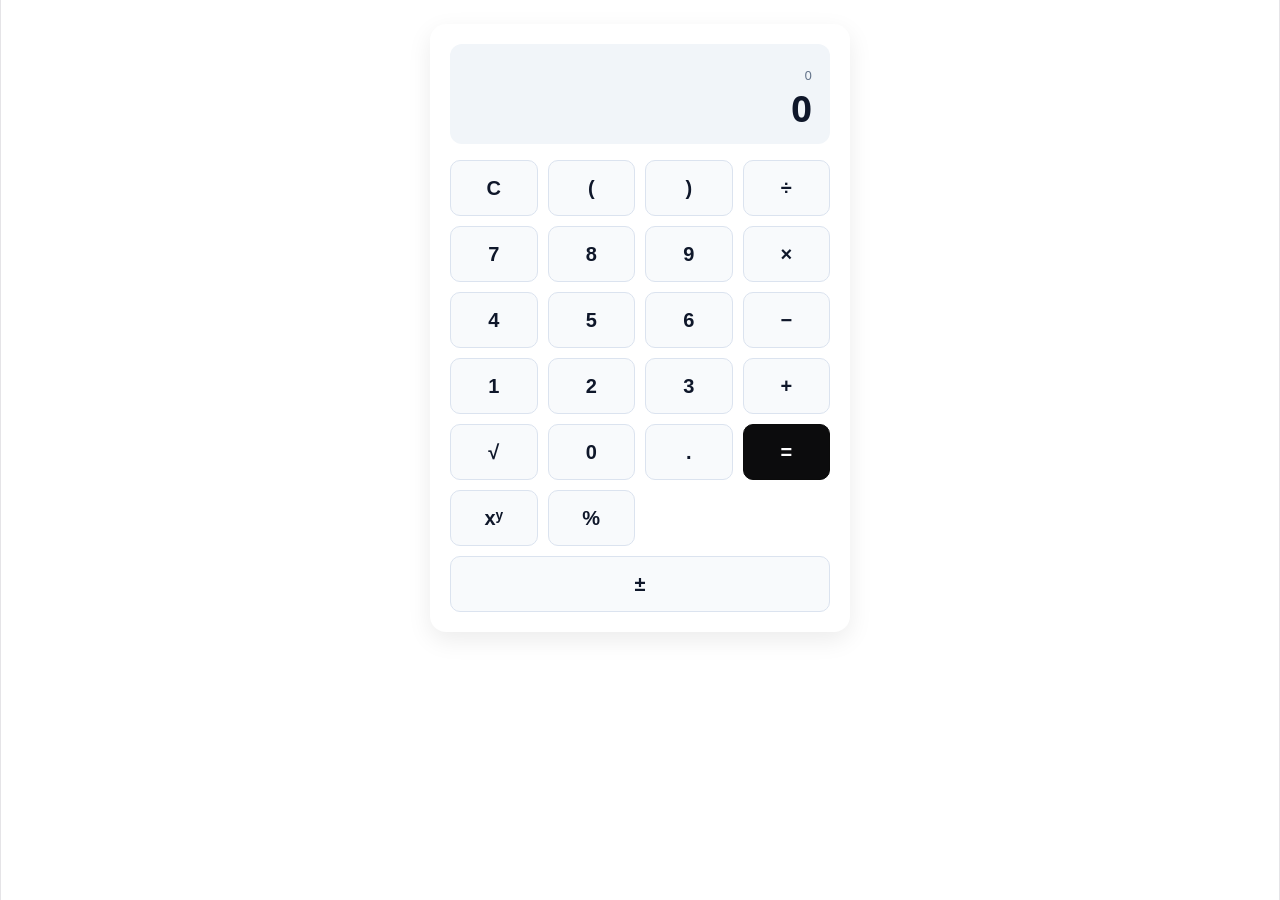
Test: ClassicCalculator expression entry › shows service validation errors
What coordinates should you click on to do the following:
click the button "√"
I would click on:
 (494, 452)
Its box is [450,424,538,480].
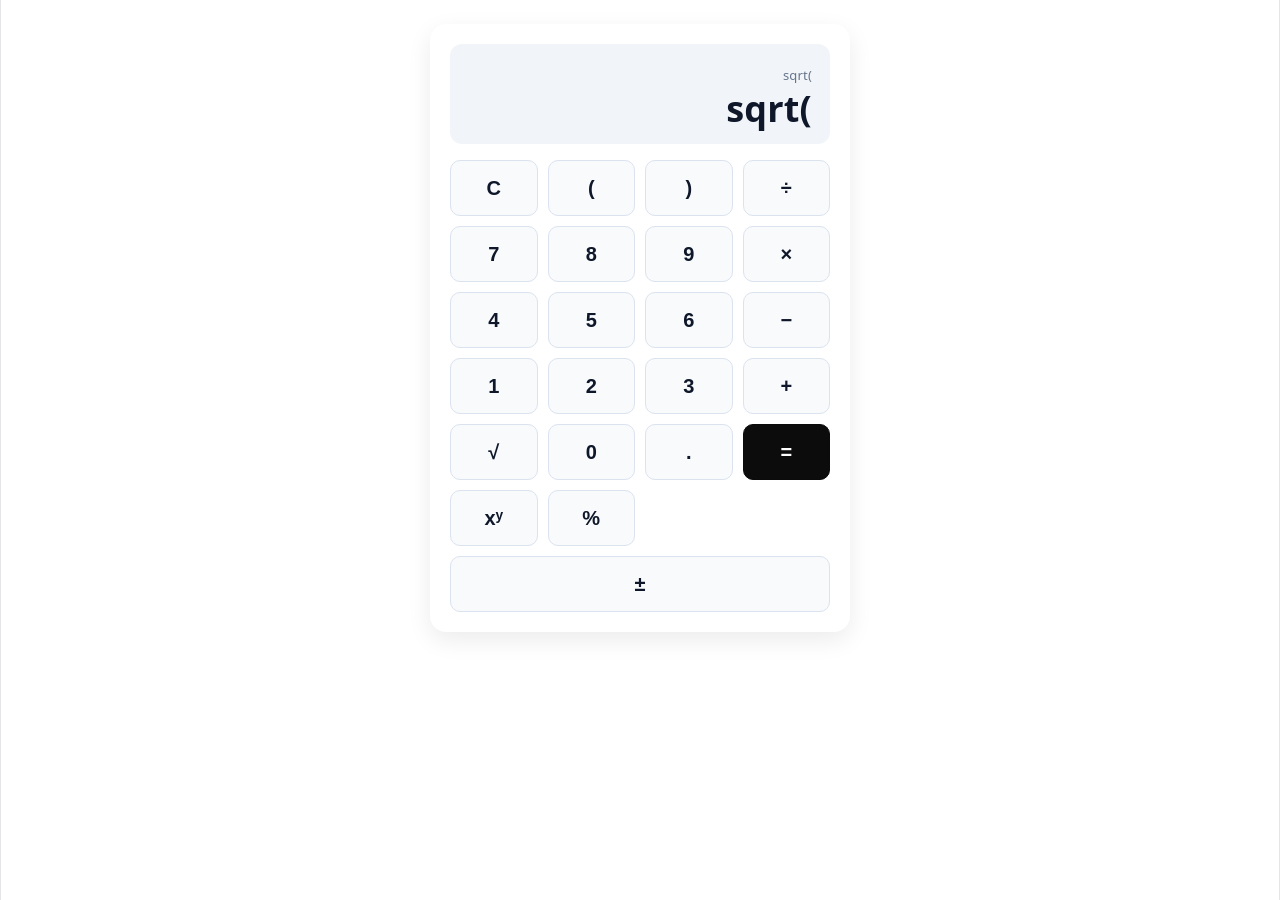
What coordinates should you click on to do the following:
click the button "−"
I would click on:
 (786, 320)
Its box is [742,292,830,348].
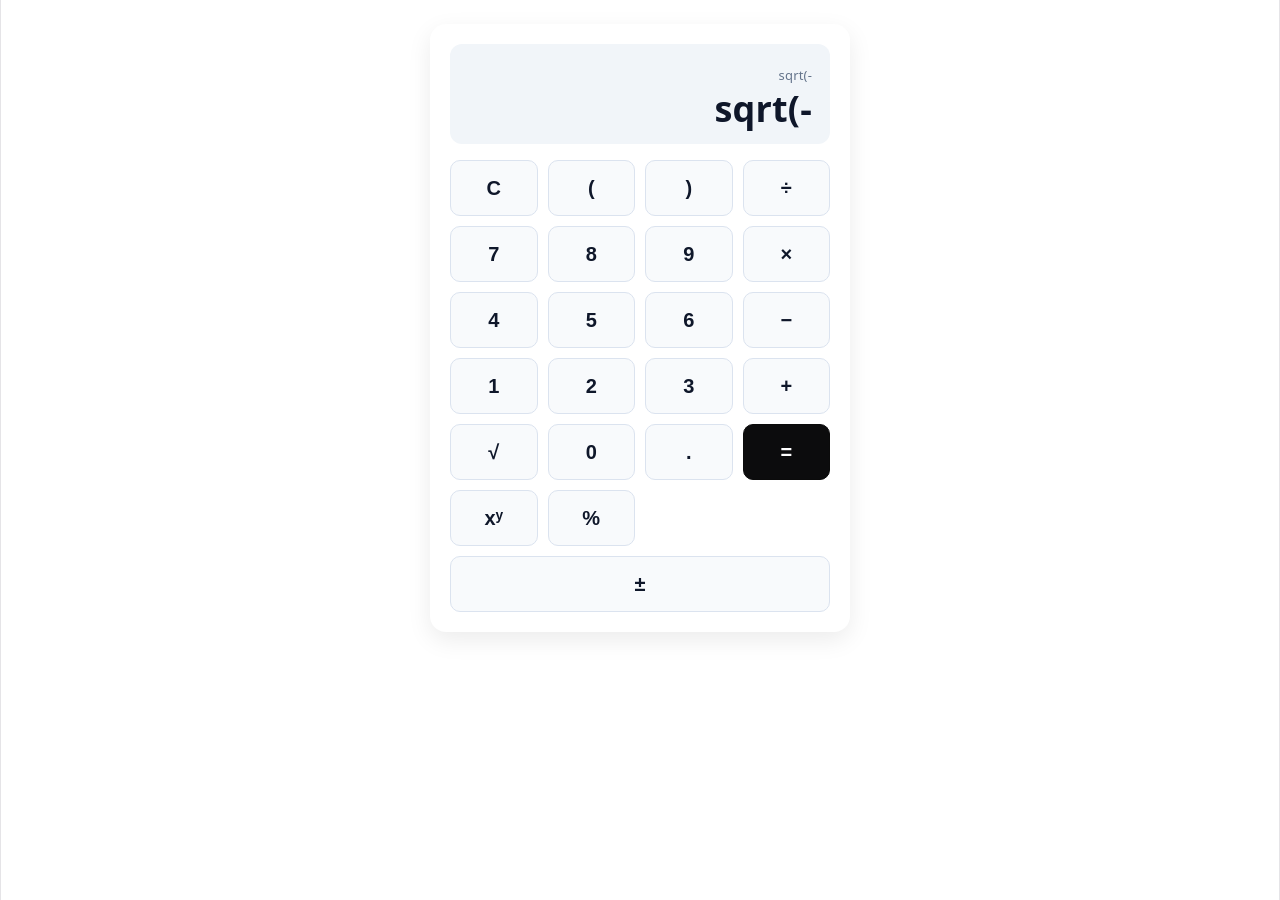
What coordinates should you click on to do the following:
click the button "4"
I would click on:
 (494, 320)
Its box is [450,292,538,348].
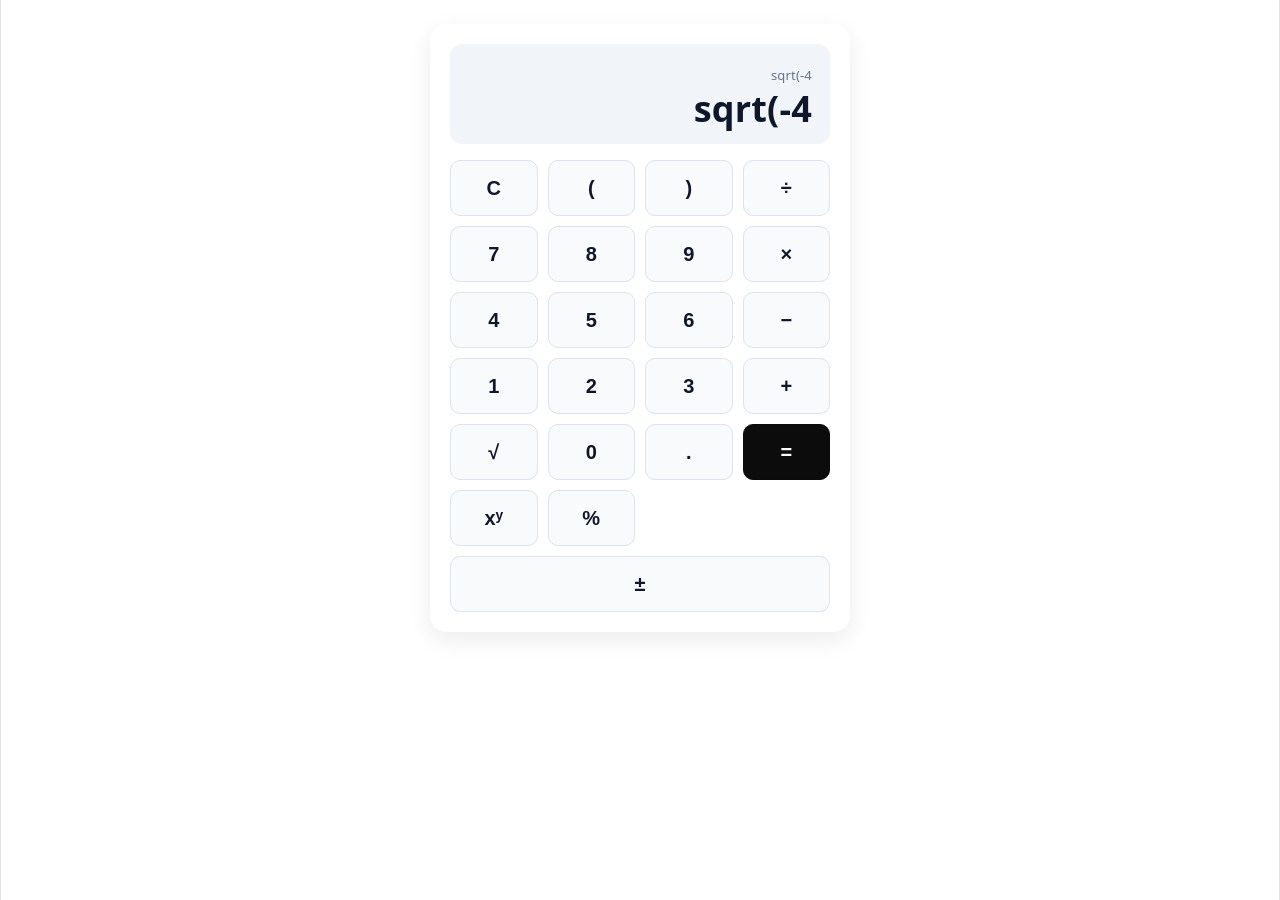
What coordinates should you click on to do the following:
click the button ")"
I would click on:
 (689, 188)
Its box is [645,160,732,216].
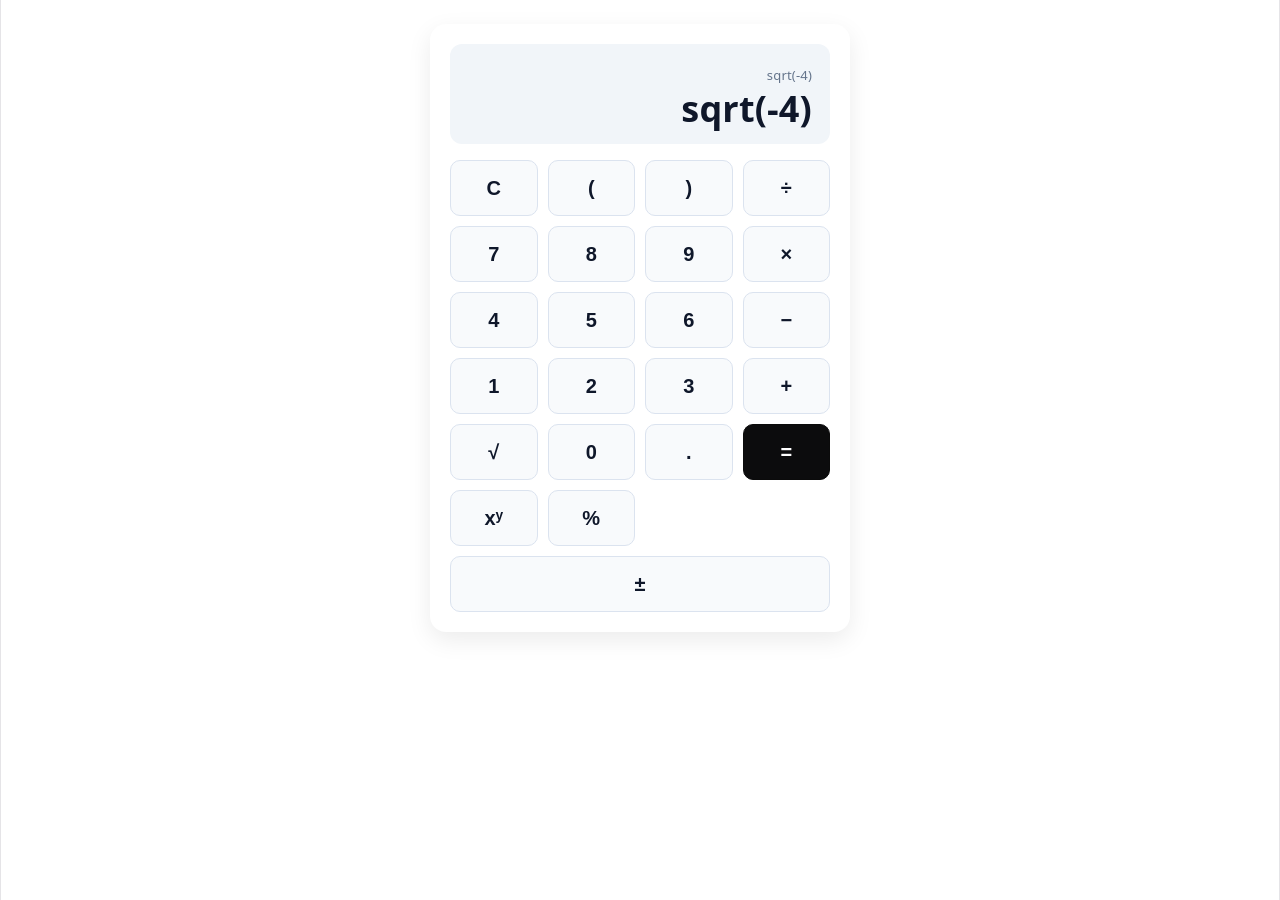
What coordinates should you click on to do the following:
click the button "="
I would click on:
 (786, 452)
Its box is [742,424,830,480].
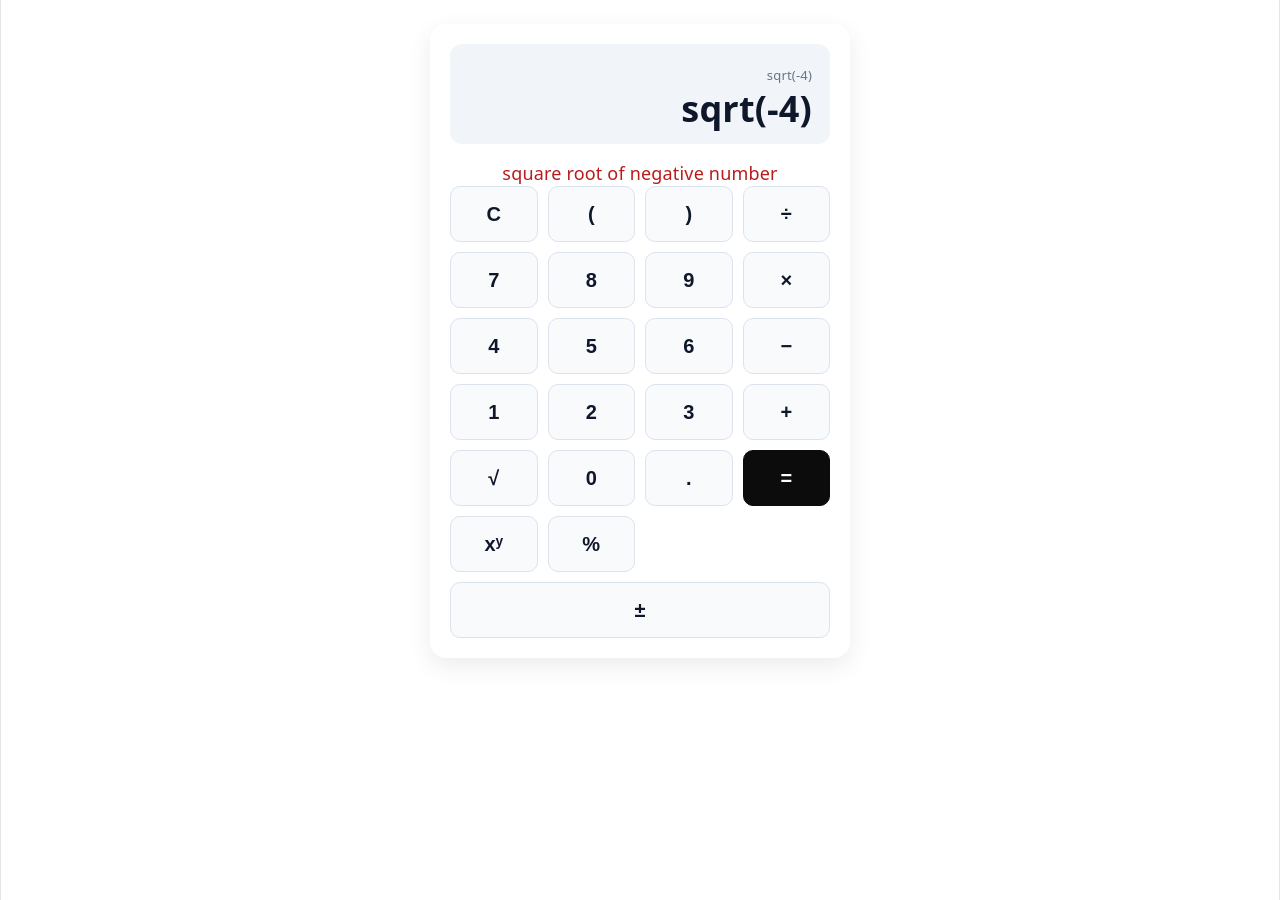
Now the message "square root of negative number" is shown, box [502,161,778,185]
